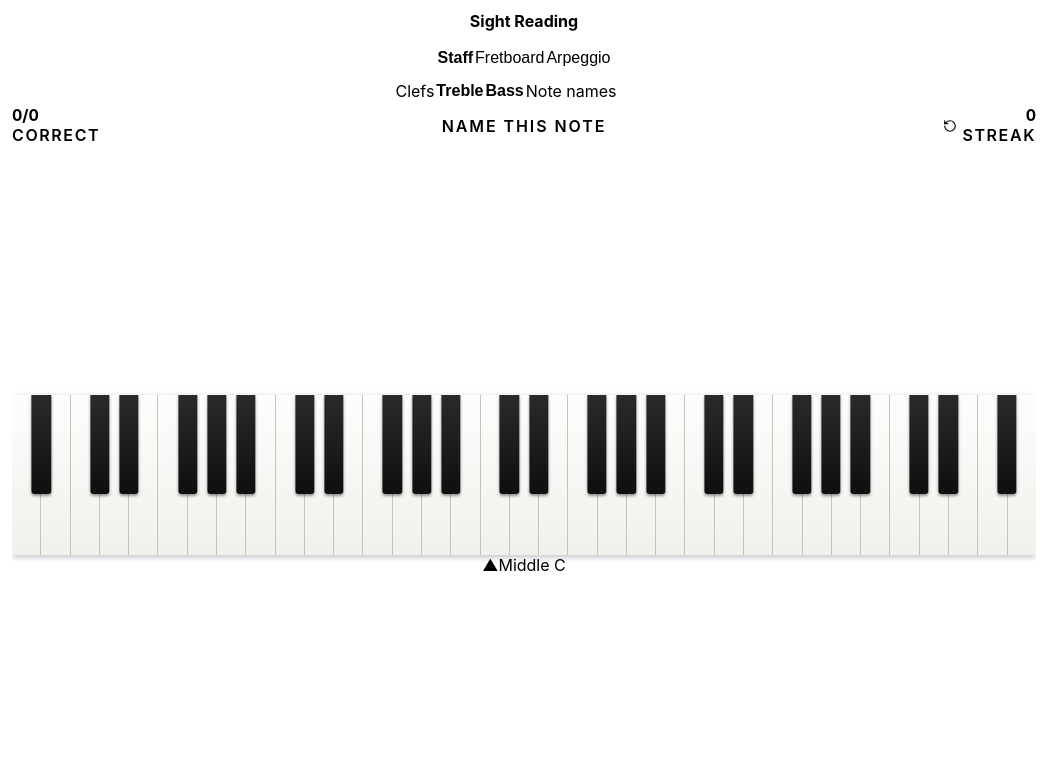
tells you what to do, and gives live right/wrong feedback
This screenshot has width=1048, height=768.
Expected: the text "Name this note" is shown, [442,116,606,136]
Click the button named "D#3". click: (334, 445)
box: [324,395,344,494]
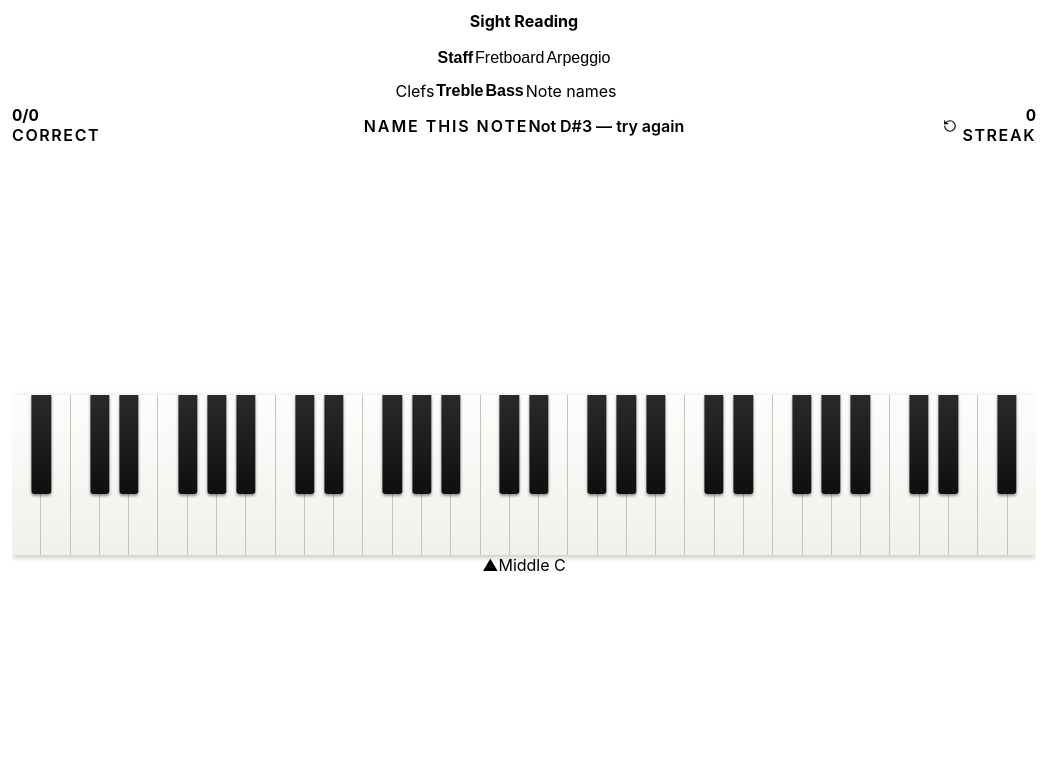
Click the button named "D3". click: (319, 475)
box: [305,395,334,555]
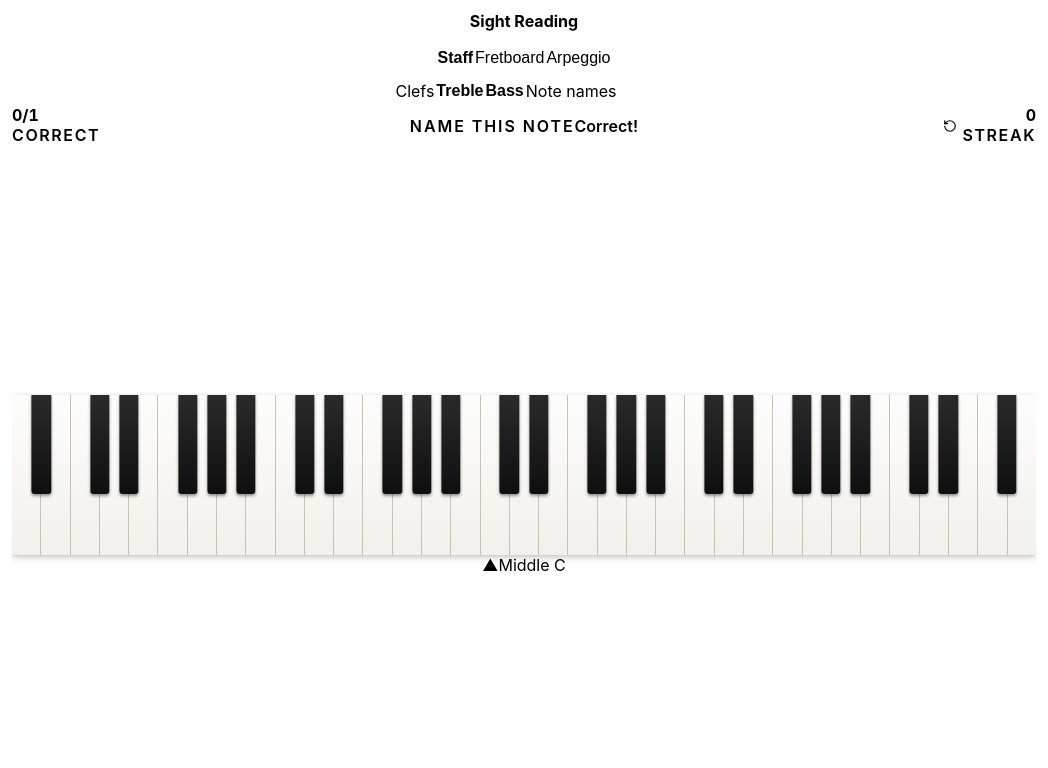
Now the message reads "Correct!", box [574,116,638,136]
